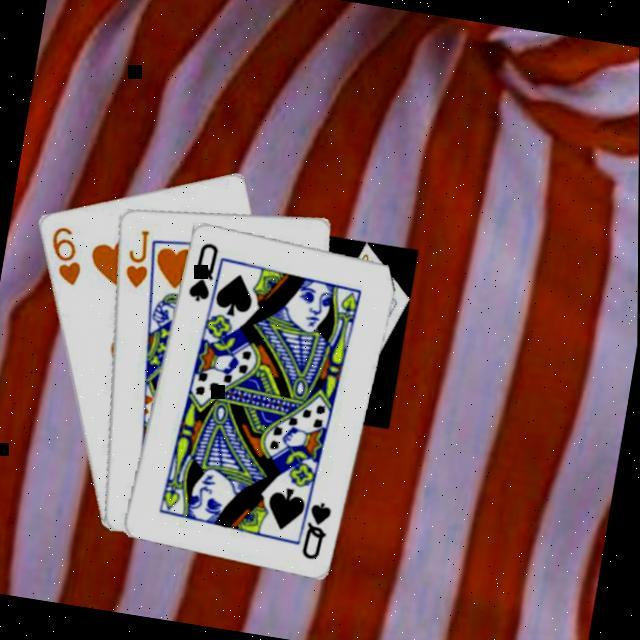6H: (44, 220, 92, 287)
JH: (122, 223, 160, 291)
QS: (185, 236, 224, 305), (300, 495, 338, 563)
